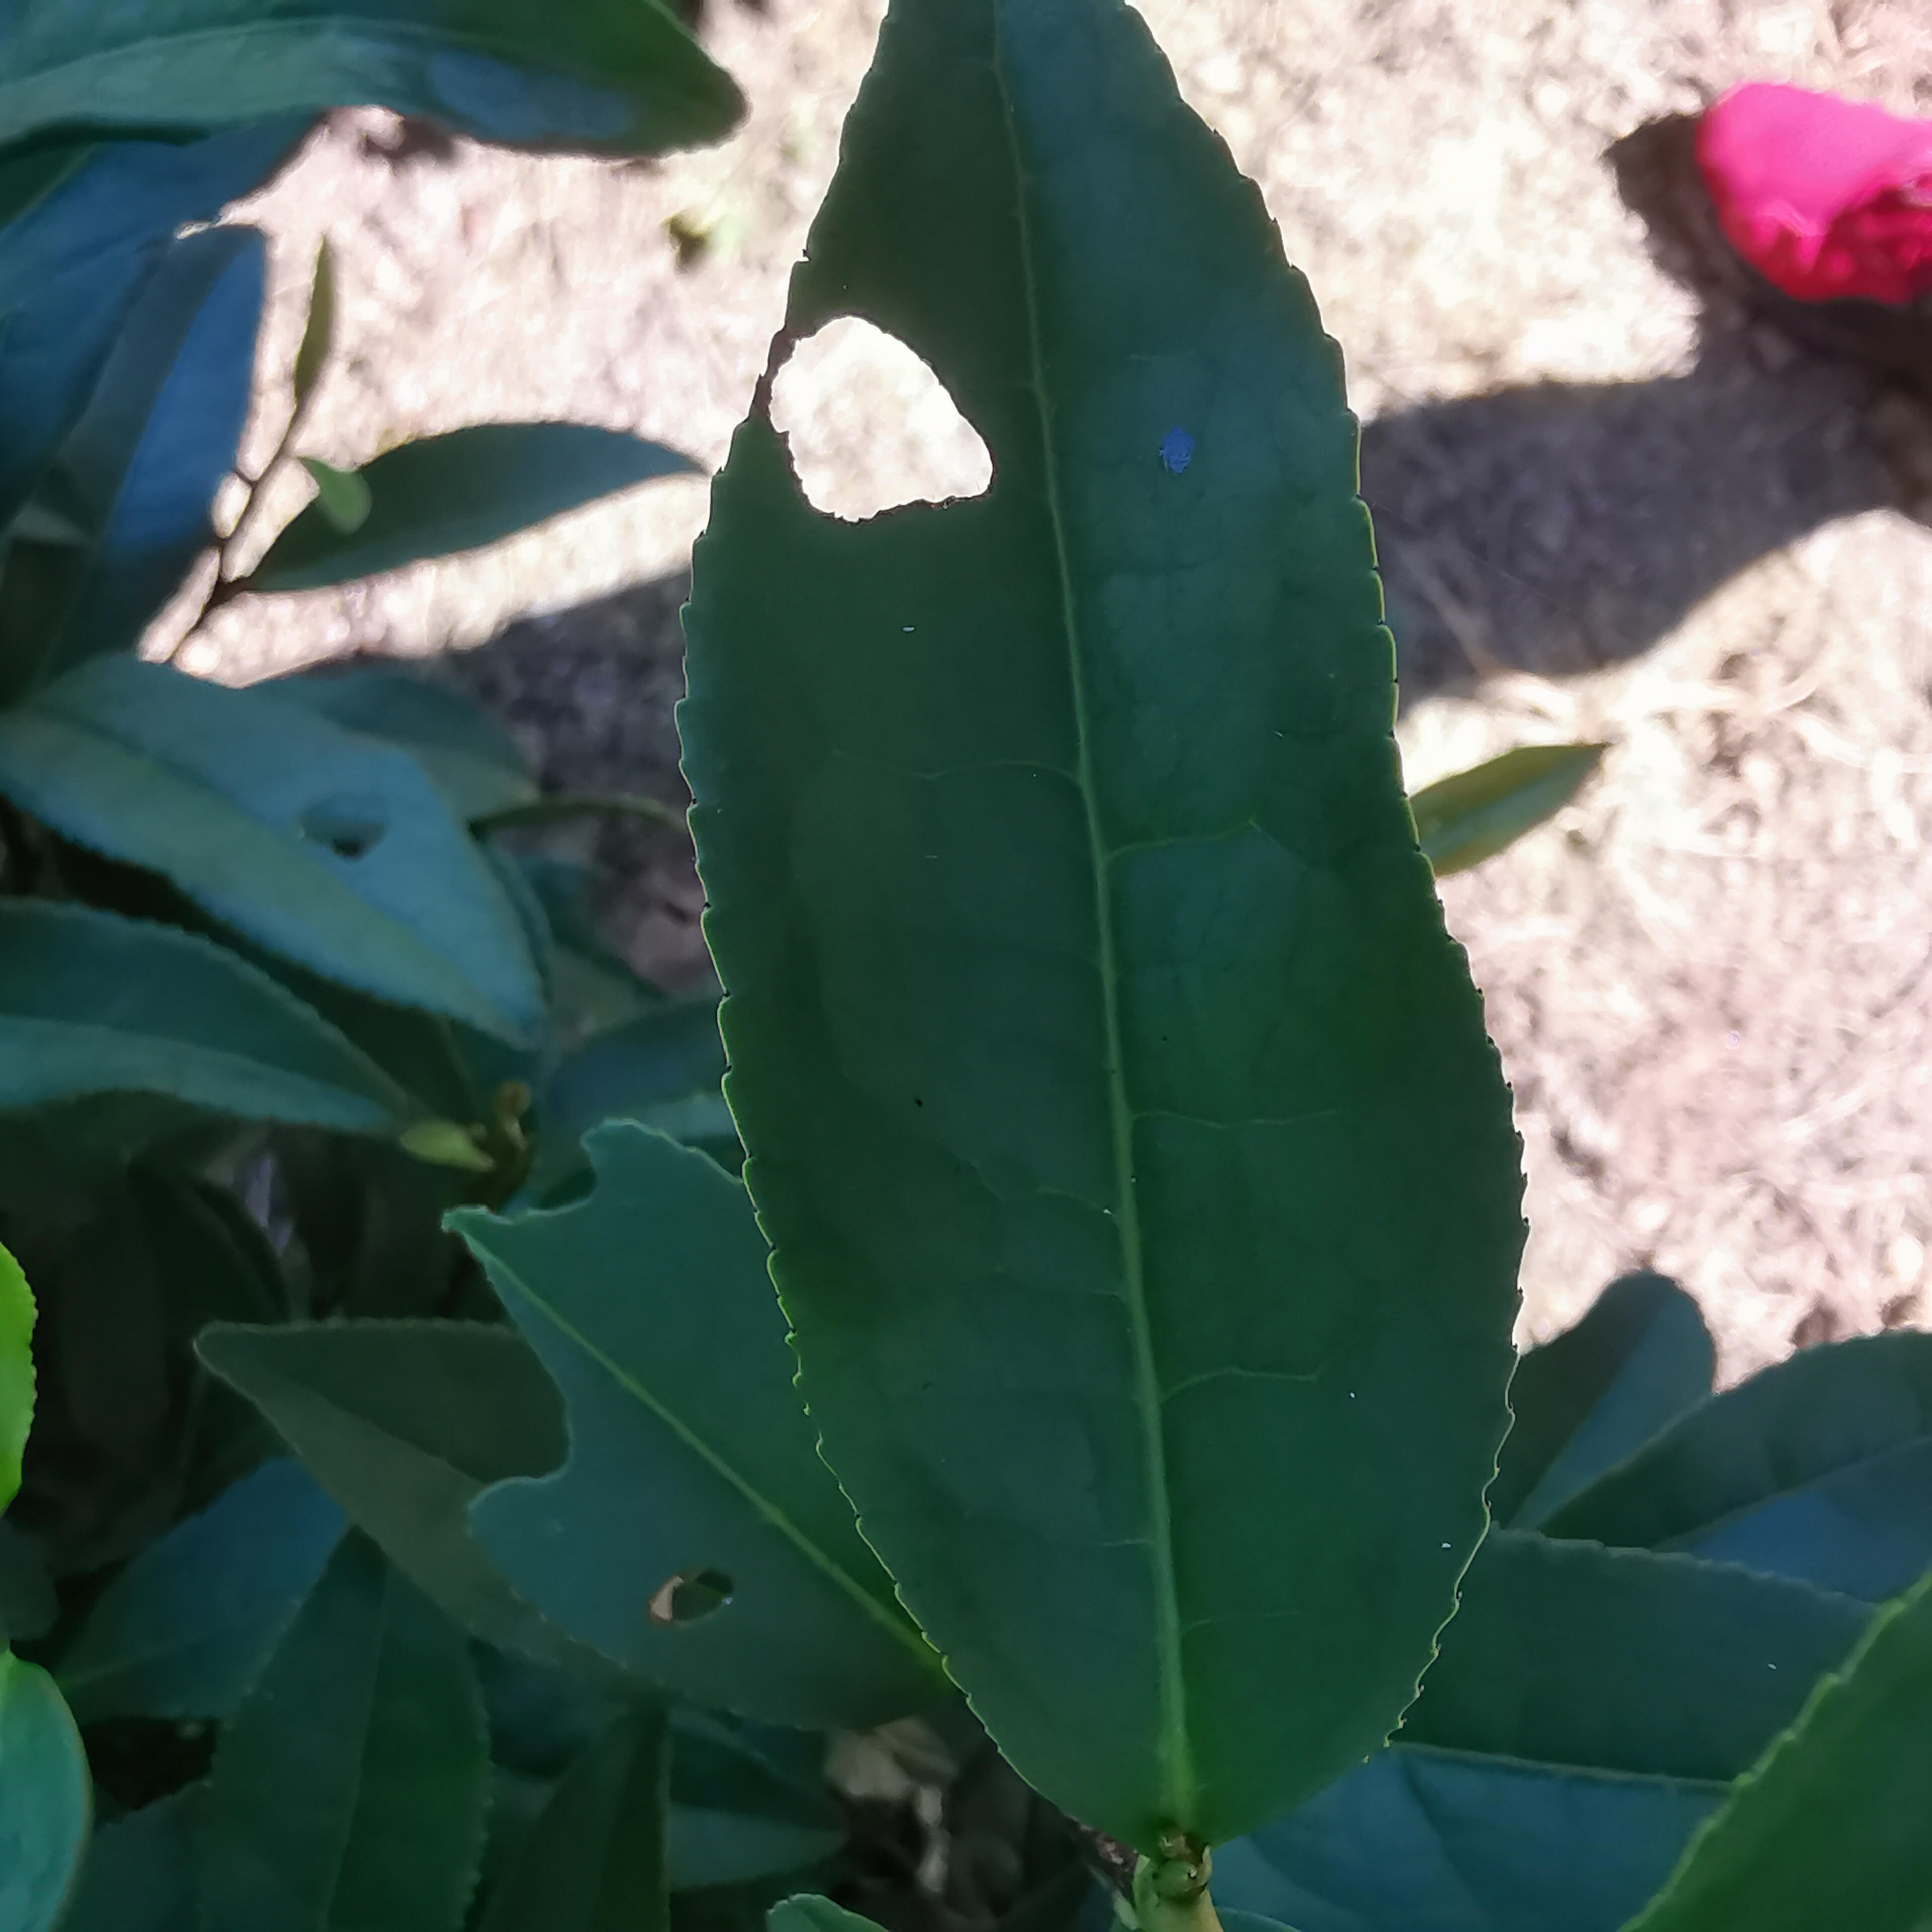chihuo_high: (416, 1115, 955, 1730)
chihuo_low: (667, 4, 1536, 1845), (7, 649, 545, 1047)
